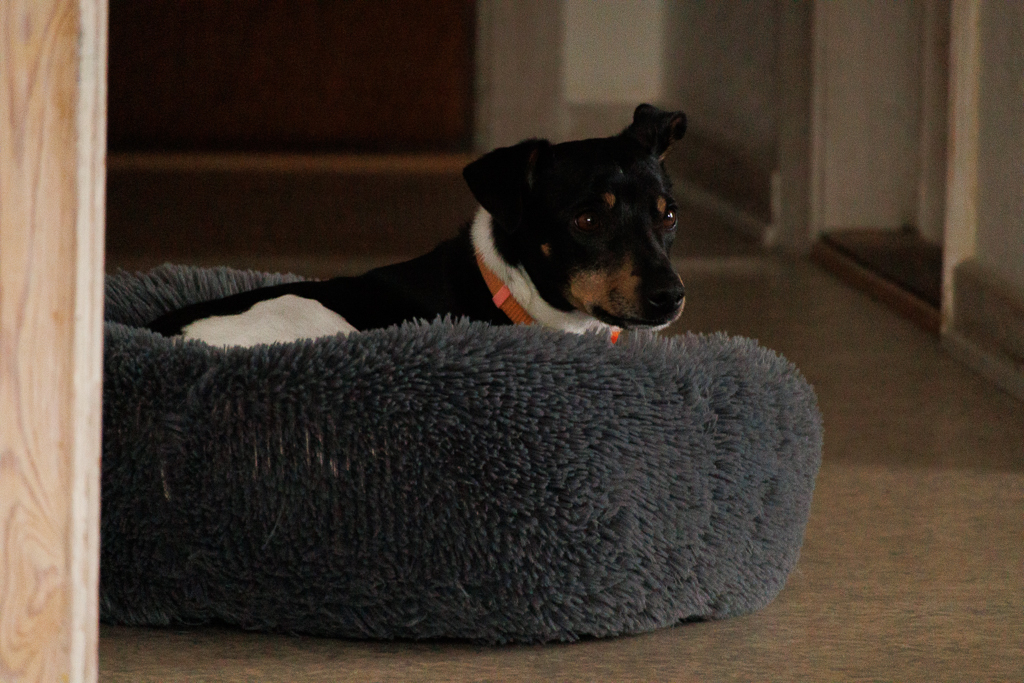Dog: (99, 92, 720, 361)
